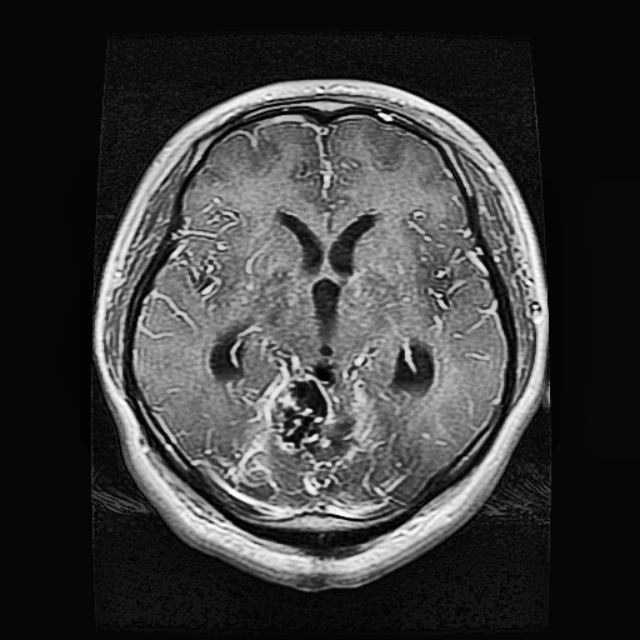Glioma: (218, 340, 408, 504)
